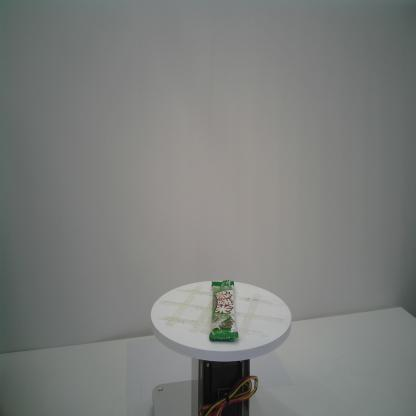Chocolate: (209, 278, 238, 342)
